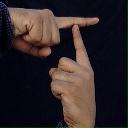hand: (48, 24, 96, 127), (6, 6, 99, 58)
